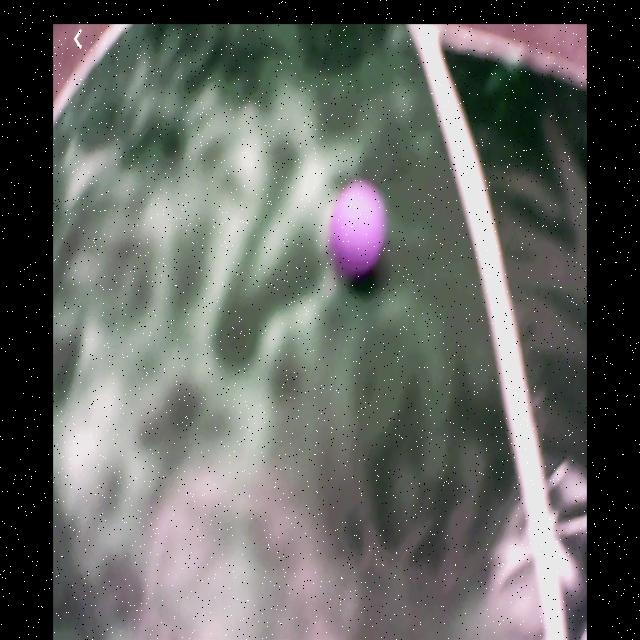ball: (333, 180, 388, 280)
